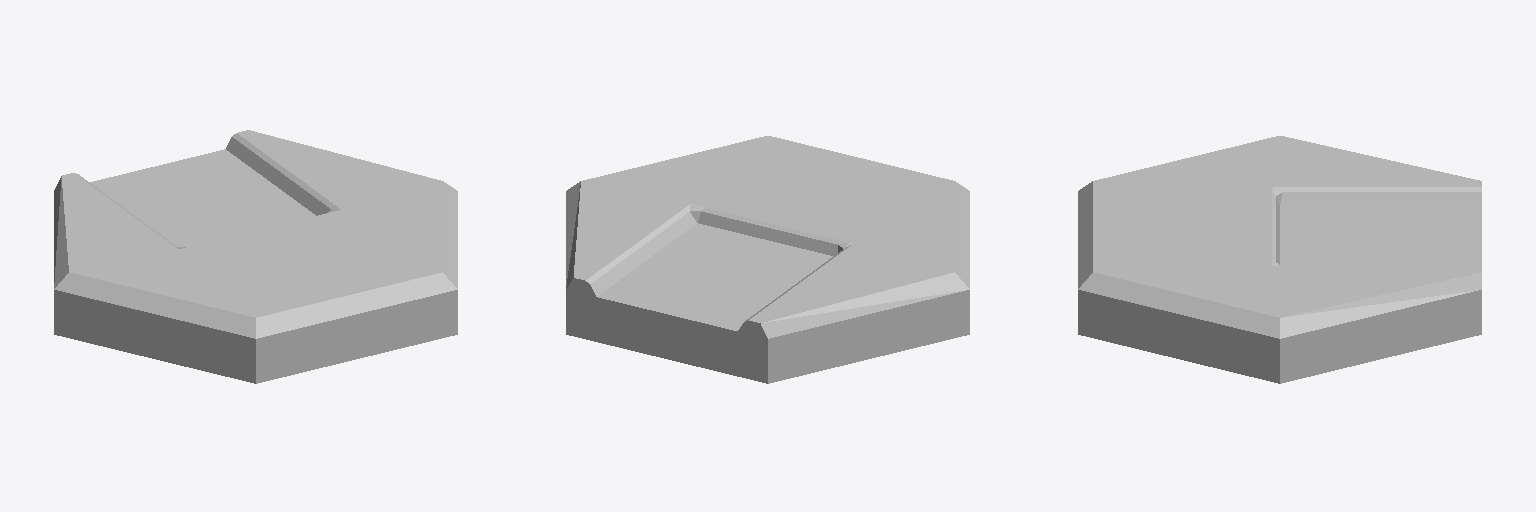
The model's file is stop.obj.
The picture shows the model from 3 angles: view 1: azimuth 30°, elevation 25°; view 2: azimuth 150°, elevation 25°; view 3: azimuth 270°, elevation 25°; orthographic projection.
Parts seen in each view (by area): view 1: stop tracks og; view 2: stop tracks og; view 3: stop tracks og.
Boxes of the visible parts, <box> form: stop tracks og: <box>54,130,457,383</box>; stop tracks og: <box>566,136,969,383</box>; stop tracks og: <box>1078,136,1481,383</box>.
Size of the model in its own units: 2 by 0.2777 by 1.73.